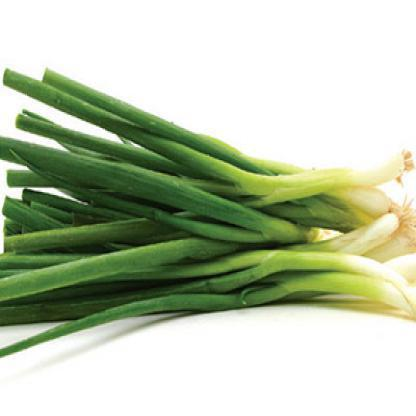green onion: (0, 172, 415, 334), (0, 62, 404, 197)
